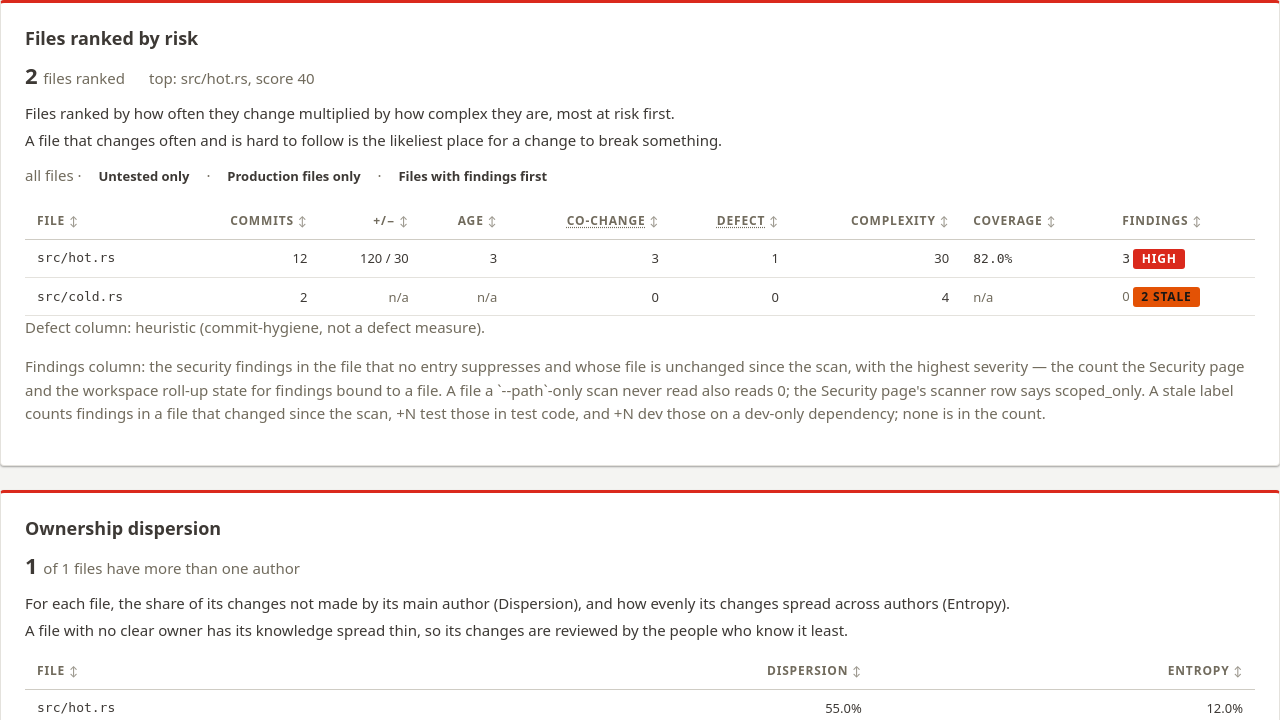
Test: FilesView (S-188, FR-UI-11) › findings column (S-671, FR-SC-14) › re-fetches with the findings filter and keeps it switchable
Check: the table named "Files ranked by risk" is shown, box x1=25 y1=204 x2=1255 y2=316
Click the button "Files with findings first" at (473, 177), box x1=386 y1=165 x2=560 y2=188
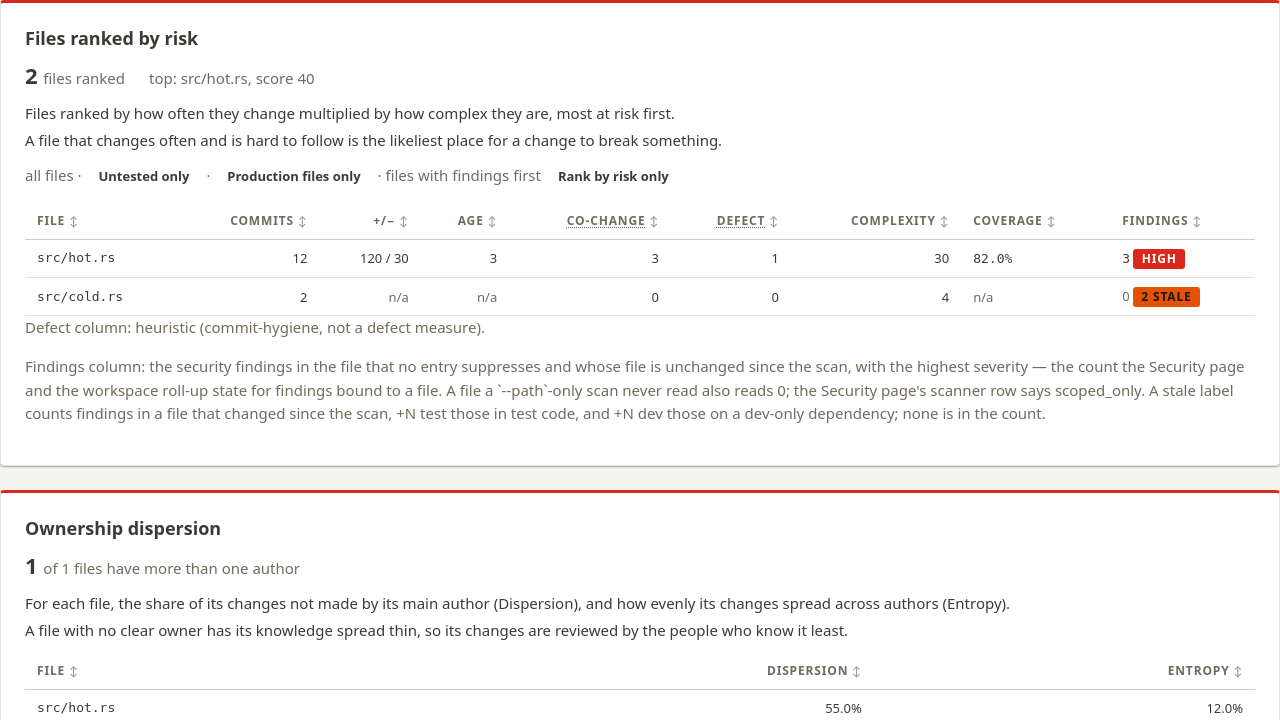
Check: the button "Rank by risk only" is shown
Click the button "Rank by risk only" at (613, 177), box x1=545 y1=165 x2=682 y2=188
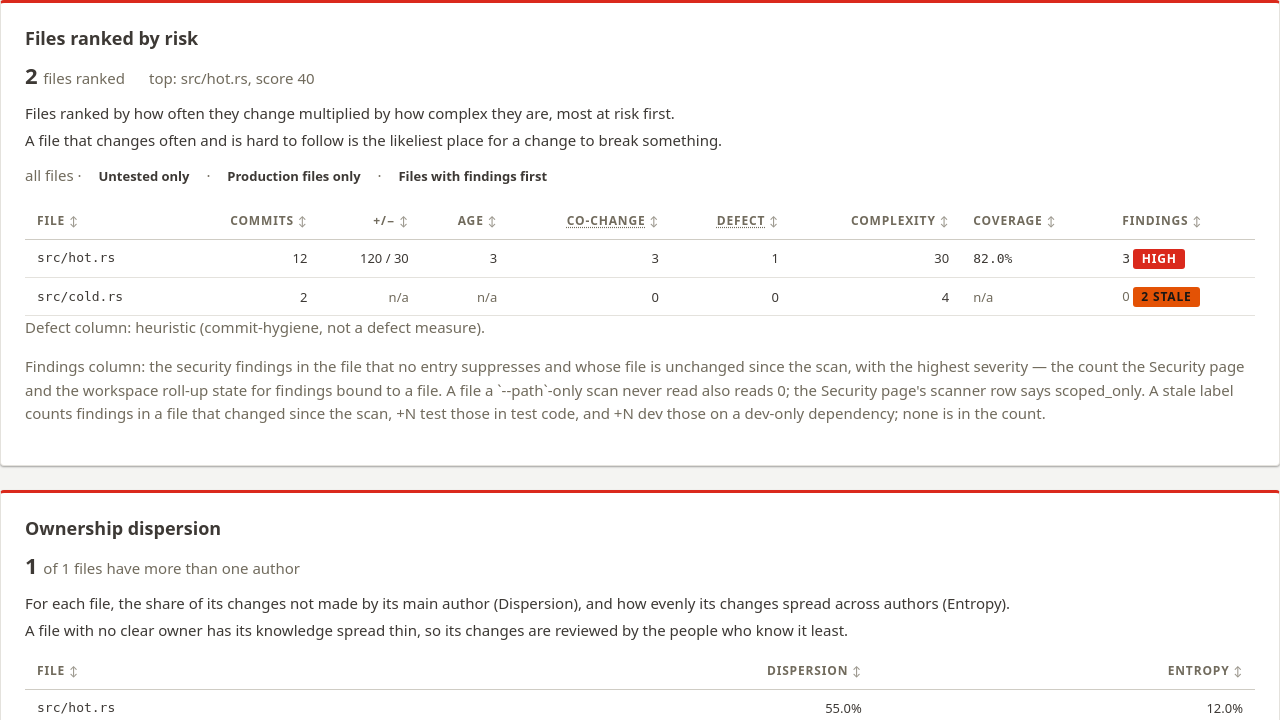
Check: the button "Files with findings first" is shown, box x1=386 y1=165 x2=560 y2=188
